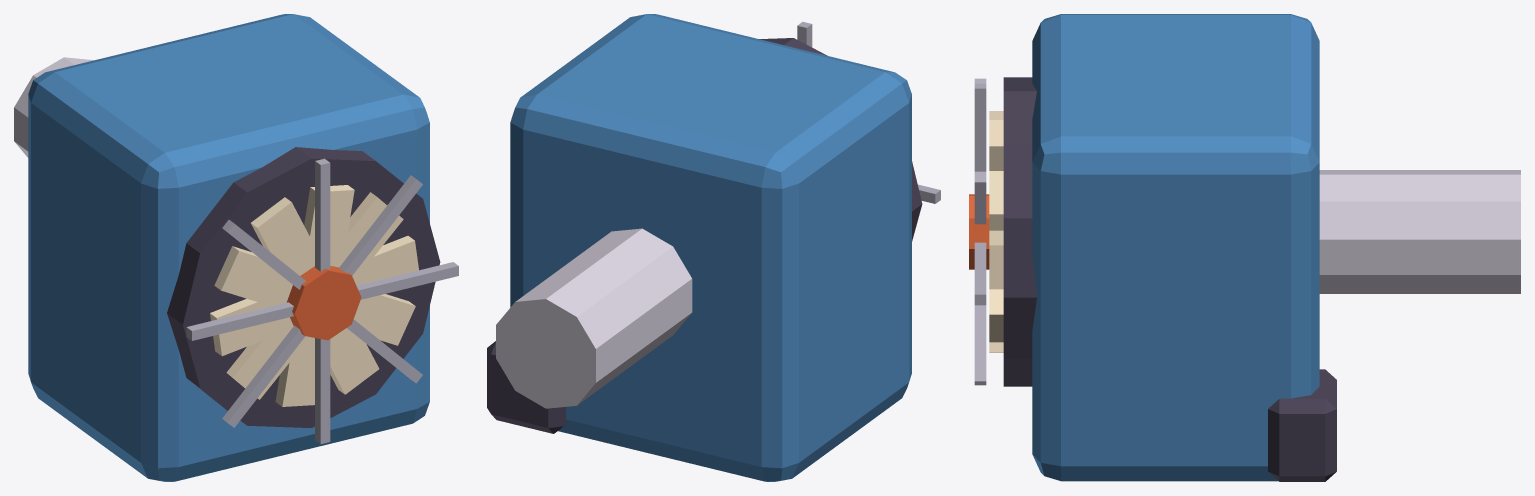
Rendered from MOONSHIFT_AIR_Fan_Branch.glb.
The picture shows the model from 3 angles, left to right: view 1: azimuth 30°, elevation 25°; view 2: azimuth 150°, elevation 25°; view 3: azimuth 270°, elevation 25°; orthographic projection. The views are drawn at different scales.
Visible parts, largest first — view 1: FanB_Housing, FanB_Ring, FanB_Blade4, FanB_Blade3, FanB_Blade0, FanB_Hub, FanB_Blade2, FanB_Blade1, FanB_Guard3, FanB_Guard2, FanB_Guard0, FanB_Guard1 (+1 smaller); view 2: FanB_Housing, FanB_PipeOut, FanB_PowerBox, FanB_Ring; view 3: FanB_Housing, FanB_PipeOut, FanB_Ring, FanB_PowerBox, FanB_Guard2, FanB_Guard1, FanB_Hub, FanB_Blade1, FanB_Blade2, FanB_Guard0, FanB_Blade3, FanB_Blade0 (+1 smaller).
Part boxes in pixels (x1=…): FanB_Housing: x1=28, y1=14, x2=429, y2=481; FanB_Ring: x1=167, y1=147, x2=440, y2=427; FanB_Blade4: x1=251, y1=197, x2=379, y2=394; FanB_Blade3: x1=214, y1=246, x2=415, y2=345; FanB_Blade0: x1=275, y1=185, x2=354, y2=406; FanB_Hub: x1=286, y1=266, x2=361, y2=340; FanB_Blade2: x1=210, y1=236, x2=418, y2=356; FanB_Blade1: x1=226, y1=192, x2=403, y2=399; FanB_Guard3: x1=222, y1=175, x2=422, y2=427; FanB_Guard2: x1=315, y1=158, x2=330, y2=444; FanB_Guard0: x1=186, y1=262, x2=458, y2=340; FanB_Guard1: x1=222, y1=220, x2=422, y2=383; FanB_Housing: x1=510, y1=14, x2=911, y2=481; FanB_PipeOut: x1=496, y1=228, x2=692, y2=408; FanB_PowerBox: x1=487, y1=341, x2=566, y2=433; FanB_Ring: x1=759, y1=38, x2=922, y2=241; FanB_Housing: x1=1032, y1=14, x2=1319, y2=481; FanB_PipeOut: x1=1319, y1=170, x2=1520, y2=293; FanB_Ring: x1=1003, y1=77, x2=1036, y2=386; FanB_PowerBox: x1=1268, y1=369, x2=1336, y2=481; FanB_Guard2: x1=974, y1=83, x2=986, y2=171; FanB_Guard1: x1=974, y1=78, x2=986, y2=385; FanB_Hub: x1=969, y1=194, x2=989, y2=269; FanB_Blade1: x1=989, y1=171, x2=1003, y2=230; FanB_Blade2: x1=989, y1=230, x2=1003, y2=289; FanB_Guard0: x1=974, y1=242, x2=986, y2=305; FanB_Blade3: x1=989, y1=289, x2=1003, y2=342; FanB_Blade0: x1=989, y1=120, x2=1003, y2=170.
Size of the model in its own units: 0.62 by 0.66 by 0.96.
